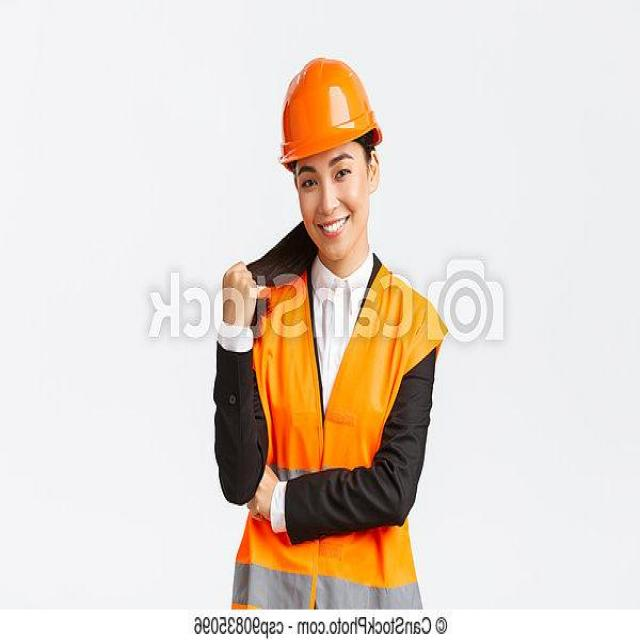Reflective-Jacket: (238, 257, 439, 599)
Safety-Helmet: (275, 50, 383, 169)
